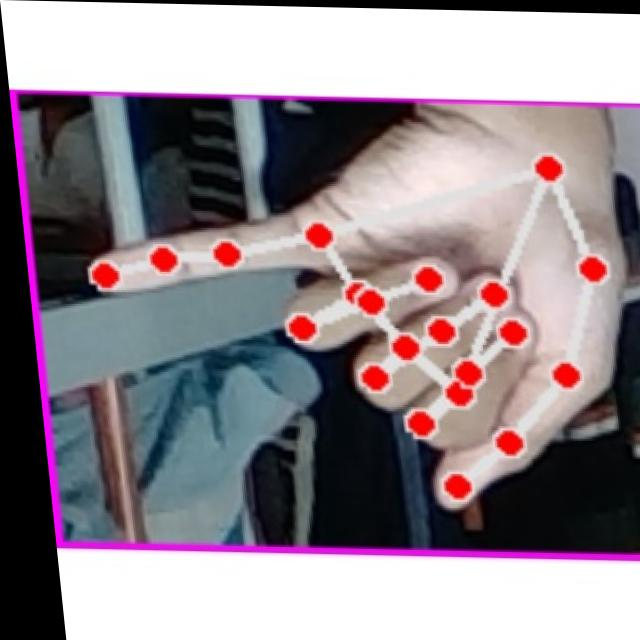J: (49, 106, 640, 535)
